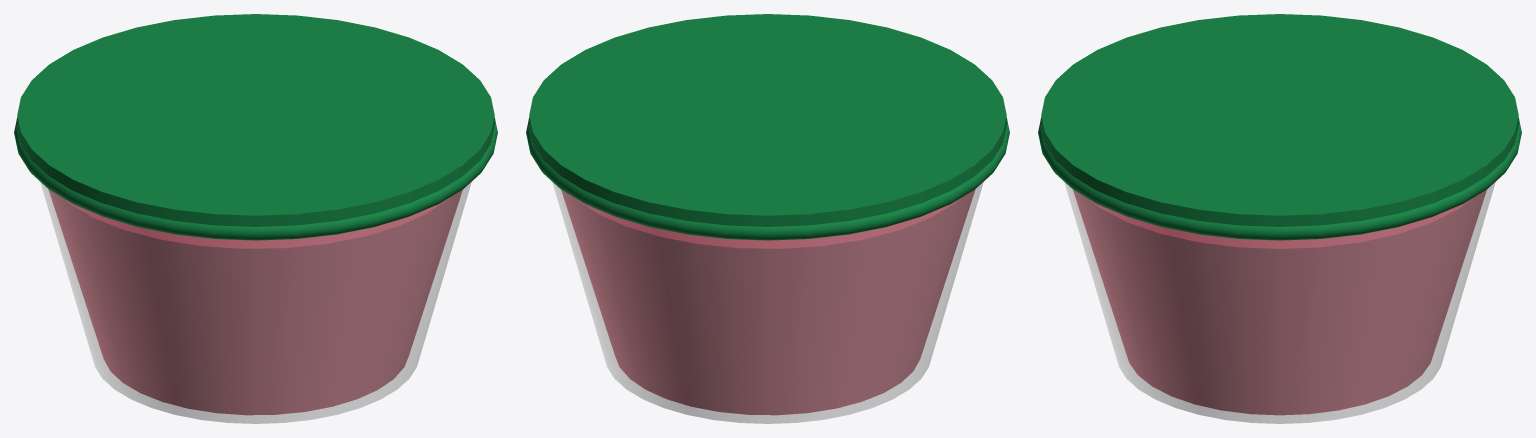
The model's file is fruit-jelly.glb.
3 views of the same model, side by side, from view 1: azimuth 30°, elevation 25°; view 2: azimuth 150°, elevation 25°; view 3: azimuth 270°, elevation 25° (orthographic).
Bounding box in the file's own units: 1.48 × 0.81 × 1.48.
